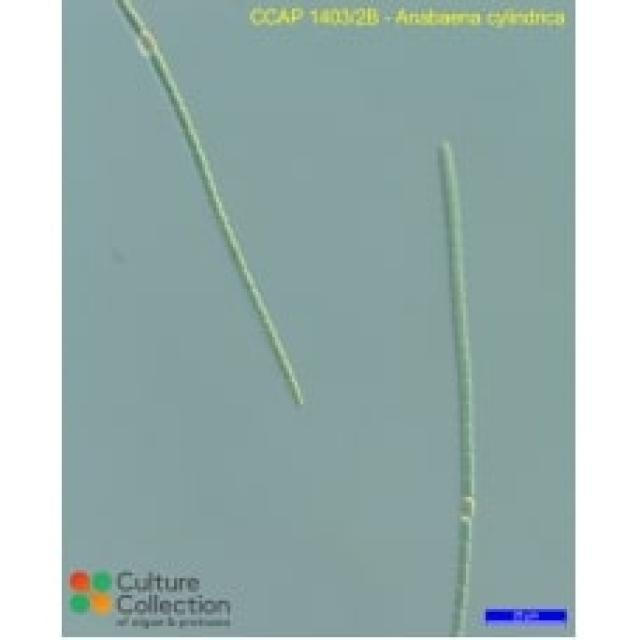Blue Green Algae: (454, 536, 472, 559), (454, 561, 472, 584), (455, 458, 477, 474), (458, 401, 474, 421), (458, 474, 474, 494), (458, 517, 474, 536), (458, 440, 474, 458), (458, 424, 472, 441)
